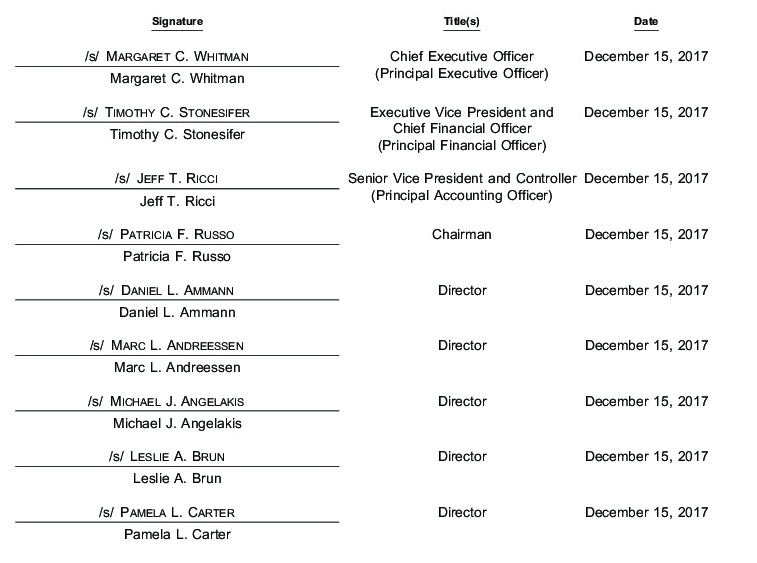table: (0, 0, 757, 563)
